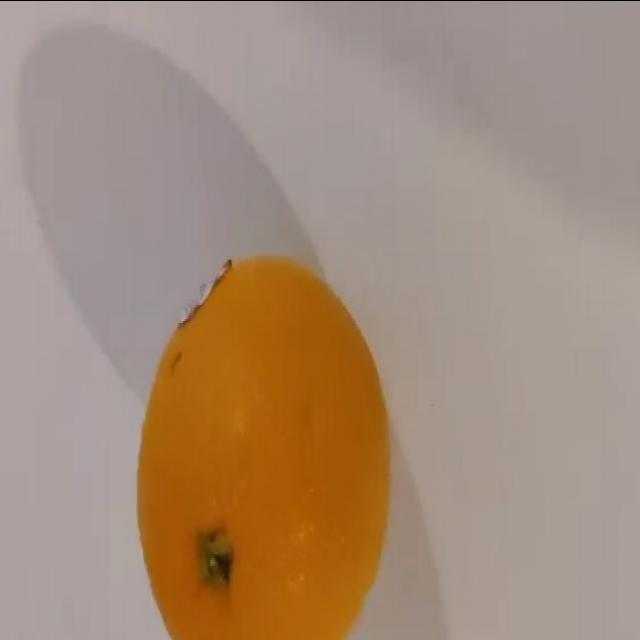Orange: (135, 254, 392, 639)
